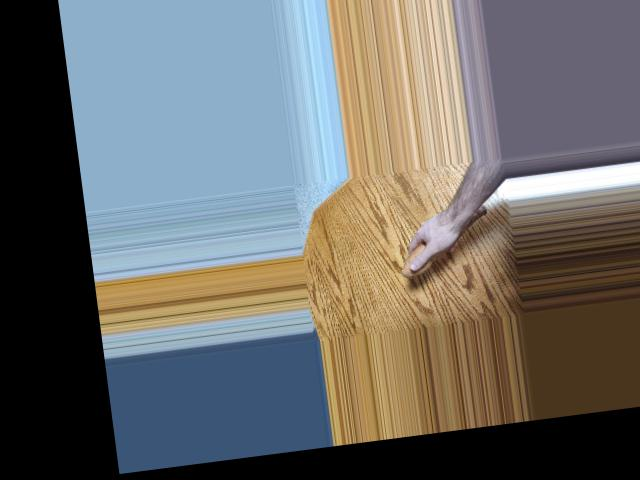sweet_potato: (392, 200, 497, 278)
